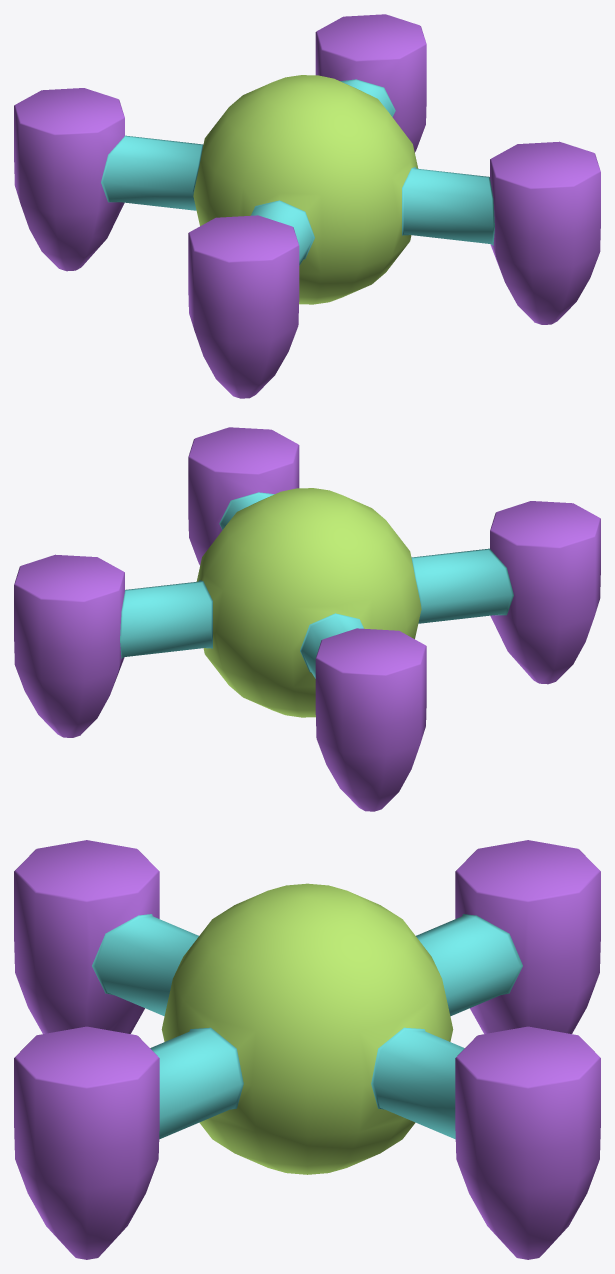
File: Kamikaze.fbx
3 views of the same model, one above another, from view 1: azimuth 30°, elevation 25°; view 2: azimuth 150°, elevation 25°; view 3: azimuth 270°, elevation 25° (orthographic). The views are drawn at different scales.
Parts seen in each view (by area): view 1: Kamikaze; view 2: Kamikaze; view 3: Kamikaze.
Part boxes in pixels (x1,y1,x2,y2): Kamikaze: [14, 14, 600, 398]; Kamikaze: [14, 427, 600, 811]; Kamikaze: [14, 840, 600, 1259].
Bounding box in the file's own units: 1.6 × 0.796 × 1.6.
